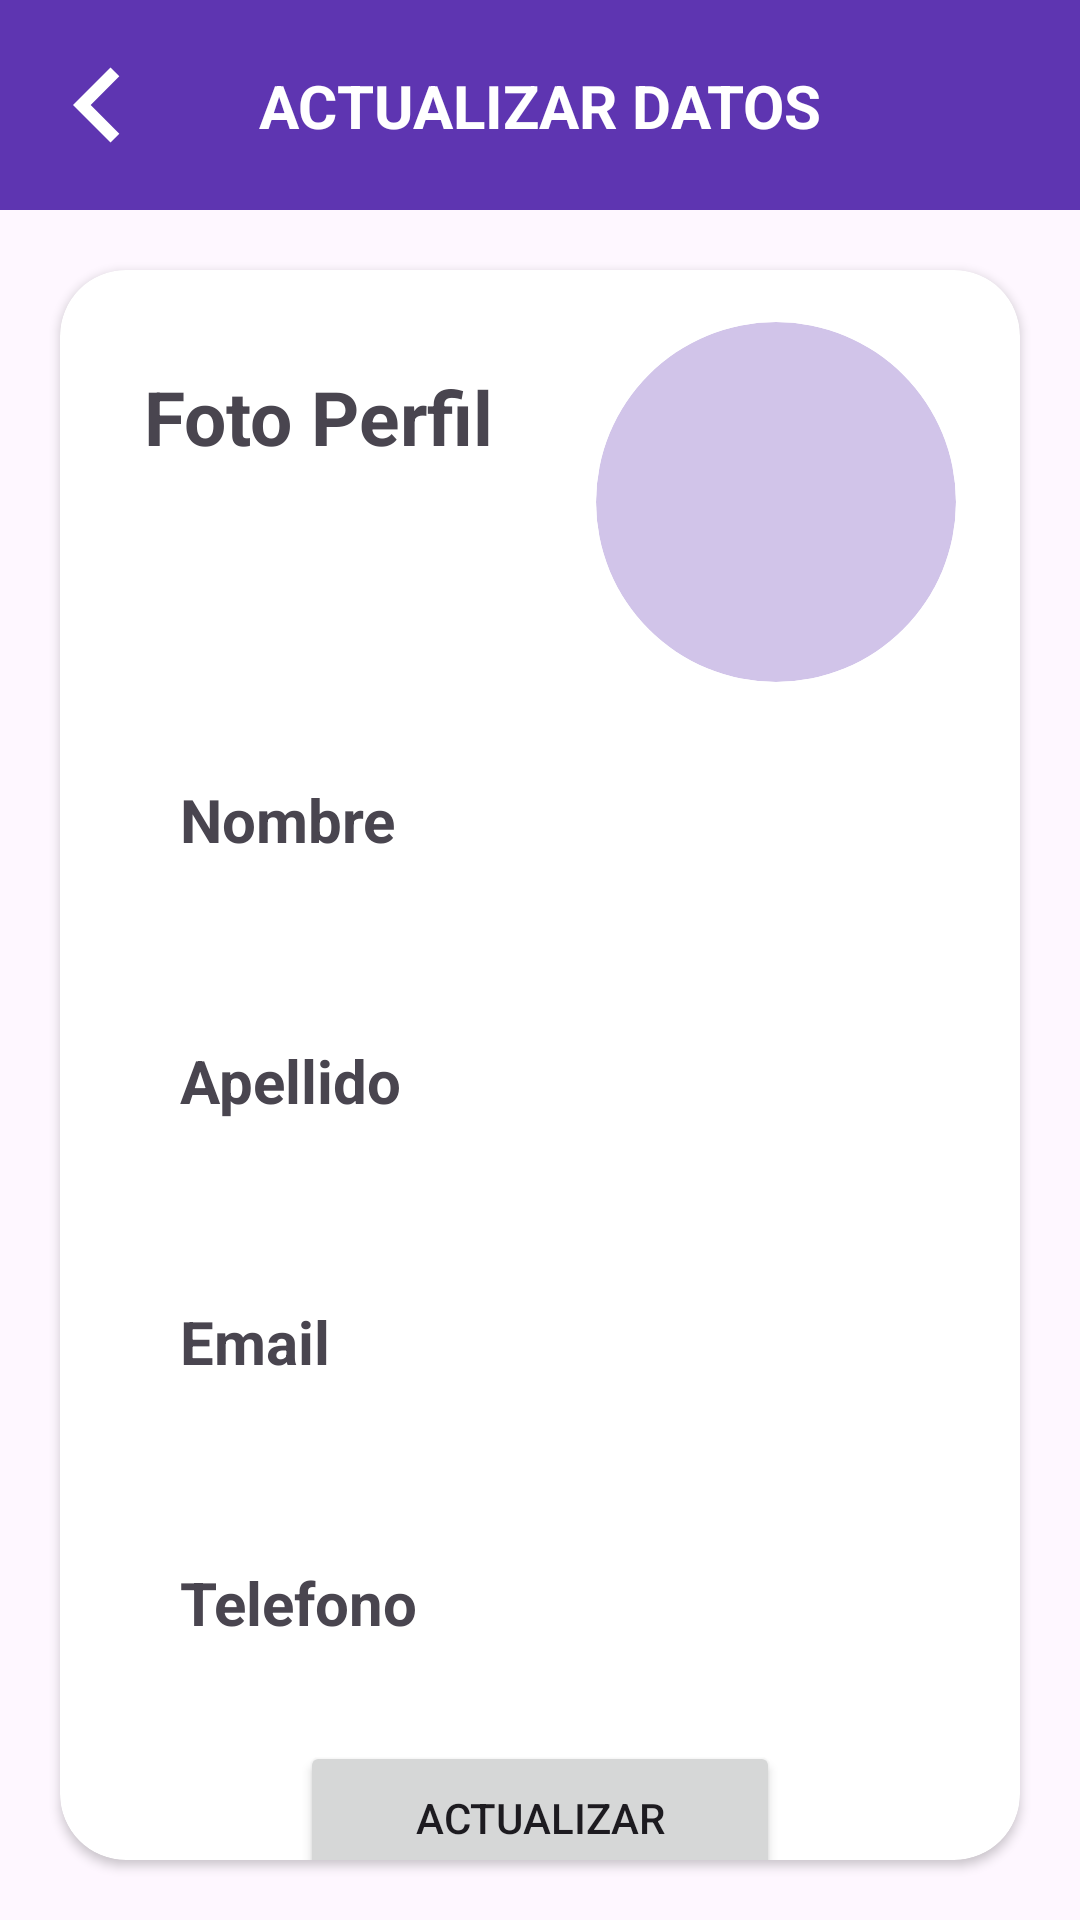

Locate icon controls on the screen. Image size 1080 x 1920, boxes as bbox=[x1, y1, x2, y2].
back: bbox=[73, 67, 119, 143]
